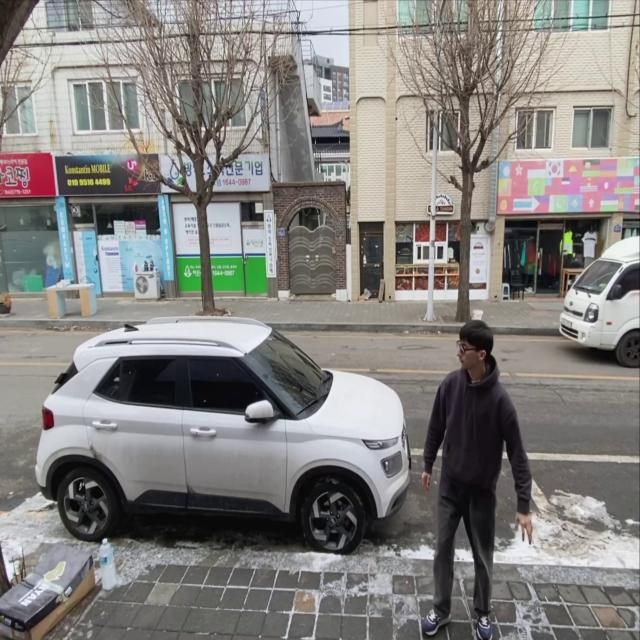bare_hand: (512, 510, 538, 551), (413, 468, 436, 492)
